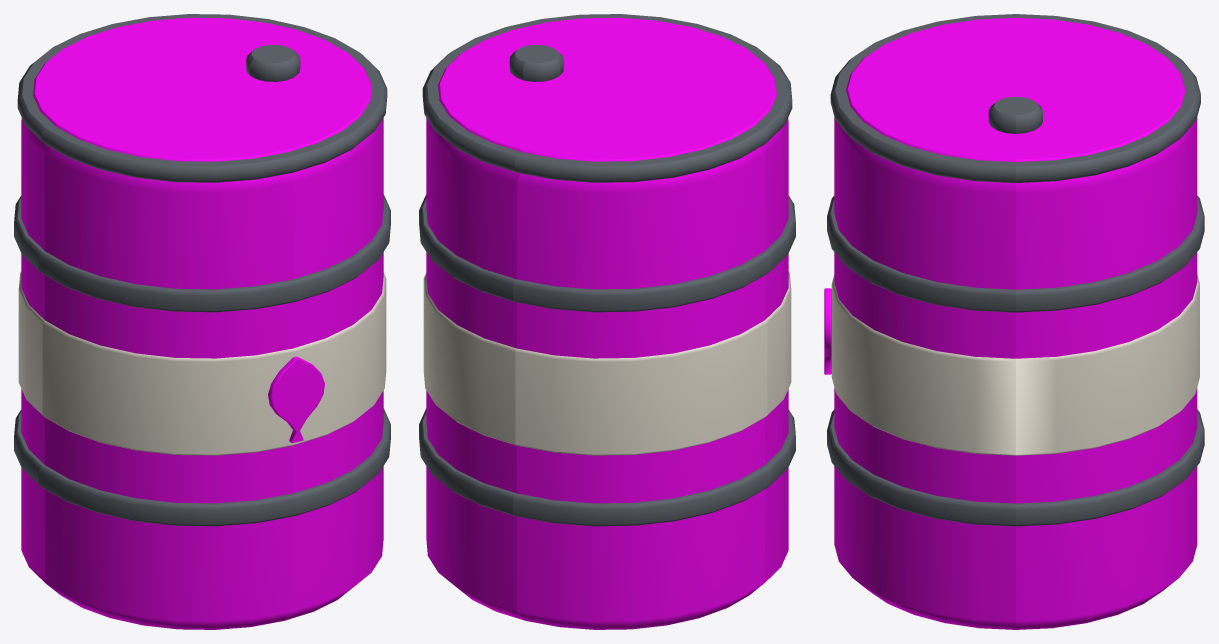
File: objet_baril_eau.glb
The picture shows the model from 3 angles, left to right: view 1: azimuth 30°, elevation 25°; view 2: azimuth 150°, elevation 25°; view 3: azimuth 270°, elevation 25°; orthographic projection.
Parts seen in each view (by area): view 1: baril_teinte.008, baril_etiquette_claire.002, baril_acier_doux_sombre.008; view 2: baril_teinte.008, baril_etiquette_claire.002, baril_acier_doux_sombre.008; view 3: baril_teinte.008, baril_etiquette_claire.002, baril_acier_doux_sombre.008.
Boxes of the visible parts, x1=… form: baril_teinte.008: x1=21, y1=17, x2=383, y2=629; baril_etiquette_claire.002: x1=18, y1=271, x2=386, y2=455; baril_acier_doux_sombre.008: x1=14, y1=14, x2=390, y2=526; baril_teinte.008: x1=426, y1=17, x2=788, y2=629; baril_etiquette_claire.002: x1=423, y1=271, x2=791, y2=455; baril_acier_doux_sombre.008: x1=419, y1=14, x2=795, y2=526; baril_teinte.008: x1=824, y1=17, x2=1197, y2=629; baril_etiquette_claire.002: x1=831, y1=275, x2=1199, y2=455; baril_acier_doux_sombre.008: x1=827, y1=14, x2=1204, y2=526.
Size of the model in its own units: 0.208 by 0.2975 by 0.2095.
